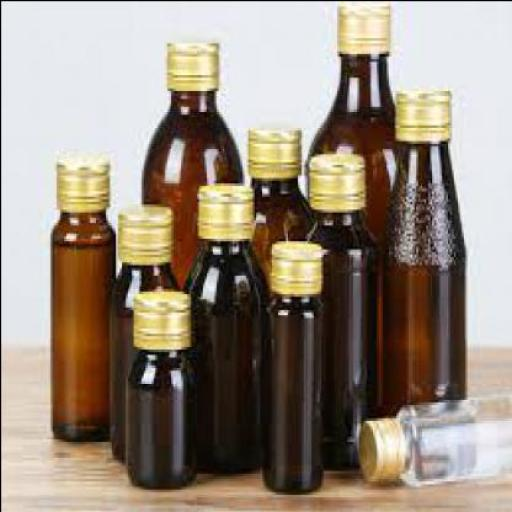glass: (376, 140, 465, 409), (144, 88, 244, 290), (304, 208, 380, 470), (184, 238, 269, 467), (302, 53, 396, 251), (51, 209, 115, 435), (113, 262, 180, 462), (265, 290, 326, 488), (401, 393, 511, 486), (126, 348, 198, 483), (247, 174, 314, 288)
metal: (308, 148, 368, 203), (137, 287, 193, 343), (199, 182, 255, 238), (360, 412, 406, 480), (119, 201, 174, 256), (247, 121, 303, 174), (57, 156, 113, 208), (396, 84, 452, 135), (168, 34, 220, 88), (338, 0, 392, 50)
